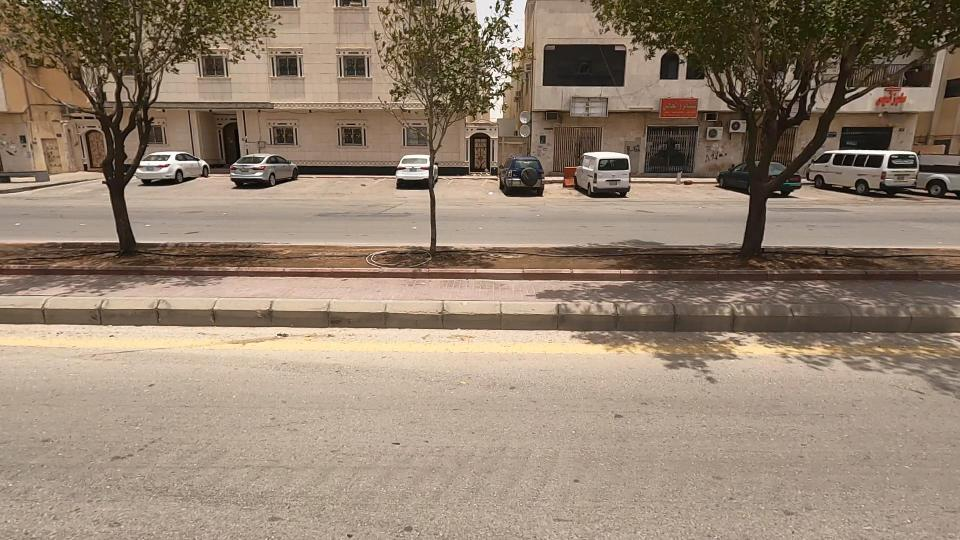CLUTTER_SIDEWALK: (396, 207, 831, 301), (106, 213, 410, 290), (747, 219, 960, 294)
